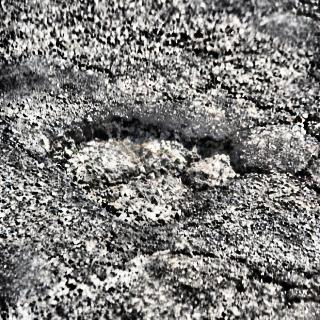alligator-crack: (229, 6, 320, 320)
pothole: (32, 110, 246, 229)
